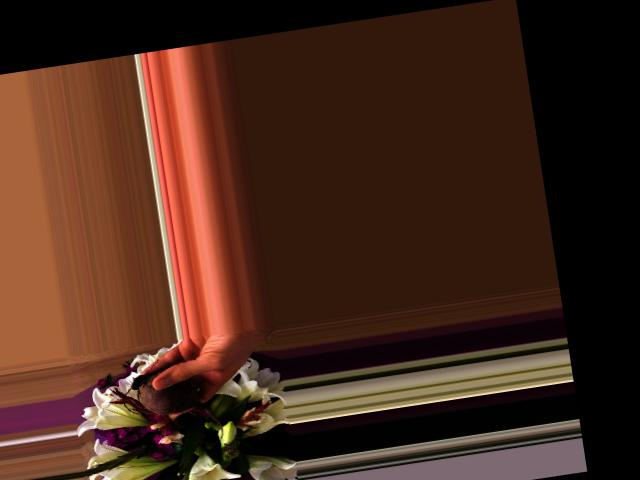beet: (119, 363, 224, 452)
